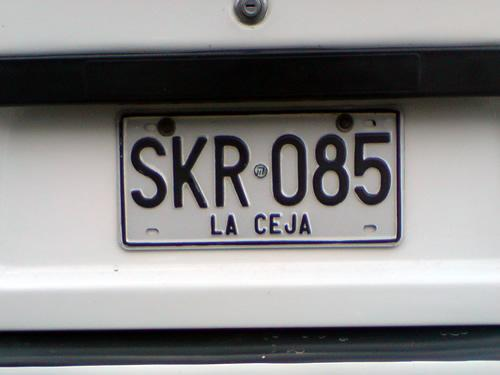placas: (113, 104, 406, 252)
